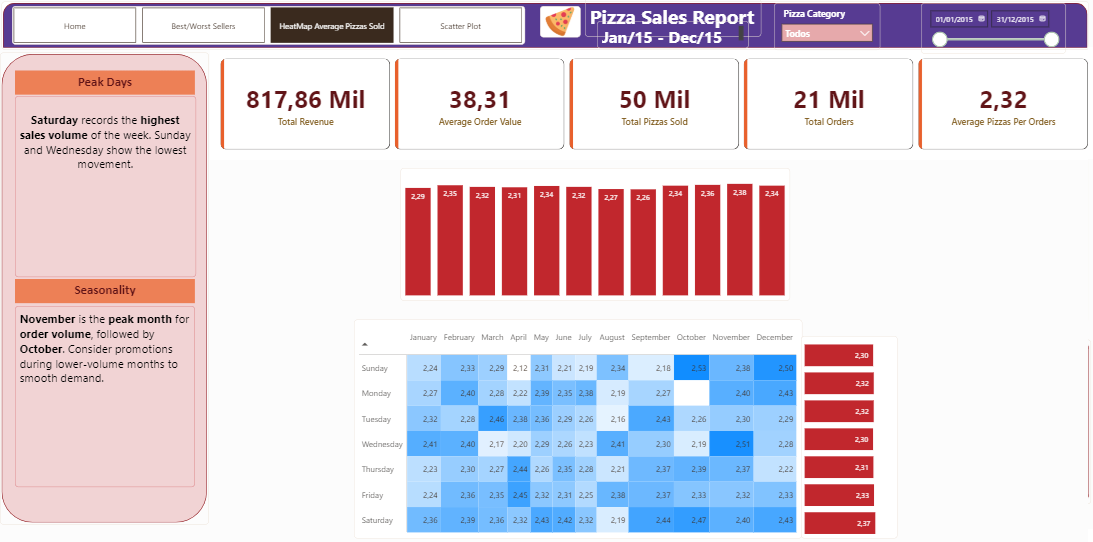

The dashboard page shown, as its layout file describes it:
{"tool":"powerbi","page":{"name":"HeatMap Average Pizzas Sold","canvas":[1920,1080],"ordinal":2},"visuals":[{"type":"cardVisual","fields":{"Data":["vw_pizza_sales_analytics.Total Revenue","vw_pizza_sales_analytics.Average Order Value","vw_pizza_sales_analytics.Total Pizzas Sold","vw_pizza_sales_analytics.Total Orders","vw_pizza_sales_analytics.Average Pizzas Per Orders"]},"box":[387.2,213.5,1472,185.1],"z":0},{"type":"shape","box":[42.7,136.7,1802.3,79.7],"z":1000},{"type":"shape","box":[40,222,346.4,782],"z":1000,"group":"g1"},{"type":"textbox","box":[1009.2,132.3,291.6,62.7],"z":2000},{"type":"textbox","box":[1028.7,169,250.6,45.4],"z":3000},{"type":"image","box":[933.6,143.1,67,51.8],"z":4000},{"type":"slicer","fields":{"Values":["vw_pizza_sales_analytics.pizza_category"]},"box":[1322,138,176,78],"z":6000},{"type":"slicer","fields":{"Values":["vw_pizza_sales_analytics.order_date"]},"box":[1566,138,240,84],"z":7000},{"type":"group","id":"g1","title":"Grupo 3","box":[36,222,350.4,782],"z":8000},{"type":"textbox","box":[36,632,346,48],"z":10000,"group":"g1"},{"type":"pivotTable","fields":{"Rows":["vw_pizza_sales_analytics.day_name"],"Columns":["vw_pizza_sales_analytics.month_name"],"Values":["vw_pizza_sales_analytics.Average Pizzas Per Orders"]},"box":[625,662.5,742.5,362.5],"z":10000},{"type":"barChart","fields":{"Y":["vw_pizza_sales_analytics.Average Pizzas Per Orders"],"Category":["vw_pizza_sales_analytics.day_name"]},"box":[1367.5,690,160,335],"z":11000},{"type":"textbox","box":[36,294,346,48],"z":12000,"group":"g1"},{"type":"clusteredColumnChart","fields":{"Y":["vw_pizza_sales_analytics.Average Pizzas Per Orders"],"Category":["vw_pizza_sales_analytics.month_name"]},"box":[702.5,412.5,645,220],"z":12000},{"type":"textbox","box":[36,680,348,294],"z":13000,"group":"g1"},{"type":"textbox","box":[38,336,348,286],"z":15000,"group":"g1"}]}

Visuals, with their boxes on the page's 1920x1080 design canvas (x1, y1, x2, y2). These are canvas units, not pixel positions in the 1093x542 screenshot, which may show the page scaled, cropped or inside an application window:
cardVisual - vw_pizza_sales_analytics.Total Revenue x vw_pizza_sales_analytics.Average Order Value: (387, 214, 1859, 399)
shape: (43, 137, 1845, 216)
shape: (40, 222, 386, 1004)
textbox: (1009, 132, 1301, 195)
textbox: (1029, 169, 1279, 214)
image: (934, 143, 1001, 195)
slicer - vw_pizza_sales_analytics.pizza_category: (1322, 138, 1498, 216)
slicer - vw_pizza_sales_analytics.order_date: (1566, 138, 1806, 222)
"Grupo 3" group: (36, 222, 386, 1004)
textbox: (36, 632, 382, 680)
pivotTable - vw_pizza_sales_analytics.day_name x vw_pizza_sales_analytics.month_name: (625, 662, 1368, 1025)
barChart - vw_pizza_sales_analytics.Average Pizzas Per Orders x vw_pizza_sales_analytics.day_name: (1368, 690, 1528, 1025)
textbox: (36, 294, 382, 342)
clusteredColumnChart - vw_pizza_sales_analytics.Average Pizzas Per Orders x vw_pizza_sales_analytics.month_name: (702, 412, 1348, 632)
textbox: (36, 680, 384, 974)
textbox: (38, 336, 386, 622)
